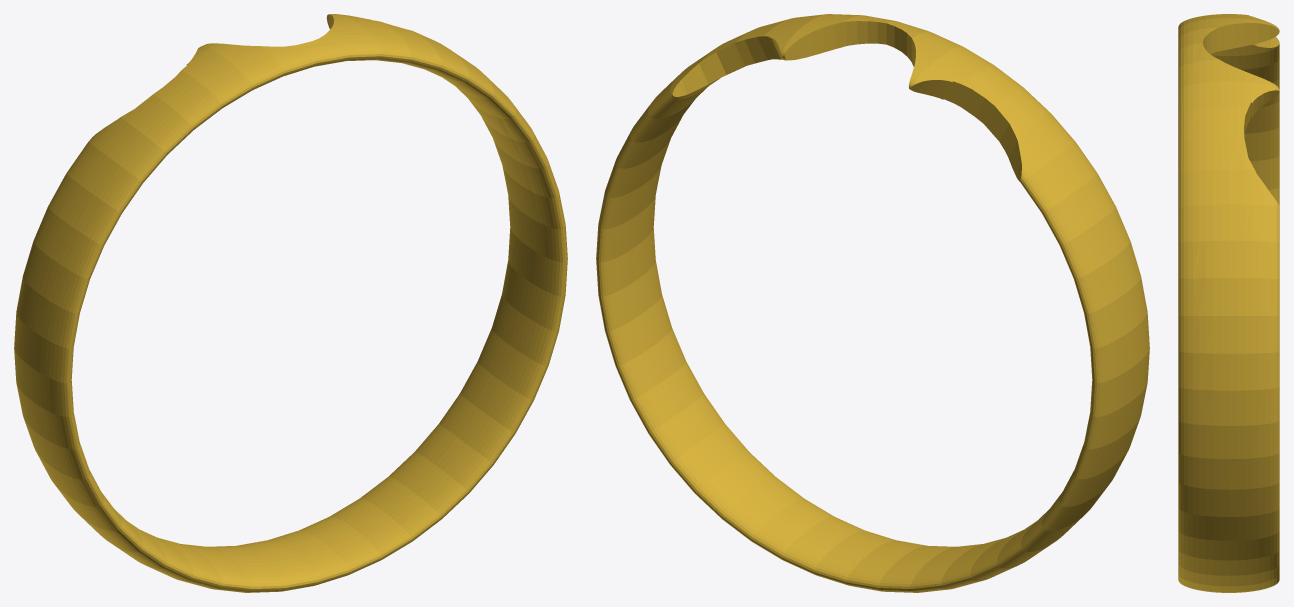
Rendered from band-3.5mm.glb.
The picture shows the model from 3 angles, left to right: view 1: azimuth 30°, elevation 25°; view 2: azimuth 150°, elevation 25°; view 3: azimuth 270°, elevation 25°; orthographic projection. The views are drawn at different scales.
Parts seen in each view (by area): view 1: band-3.5mm; view 2: band-3.5mm; view 3: band-3.5mm.
Part boxes in pixels (x1,y1,x2,y2): band-3.5mm: [14, 14, 567, 592]; band-3.5mm: [596, 14, 1149, 592]; band-3.5mm: [1178, 14, 1279, 592].
Bounding box in the file's own units: 20 × 19.93 × 3.5.
